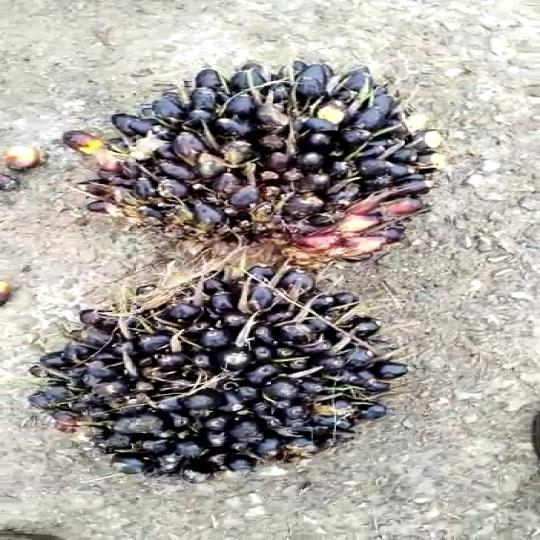mentah: (2, 243, 434, 491), (87, 43, 436, 257)
